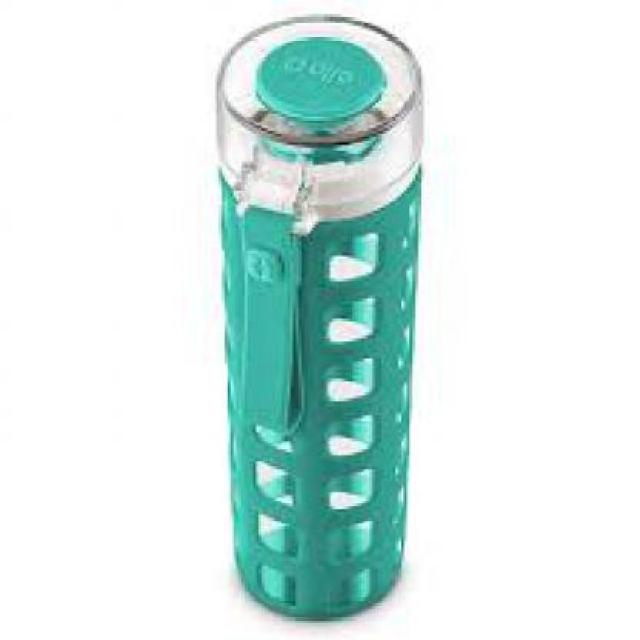Drinking: (184, 20, 443, 623)
